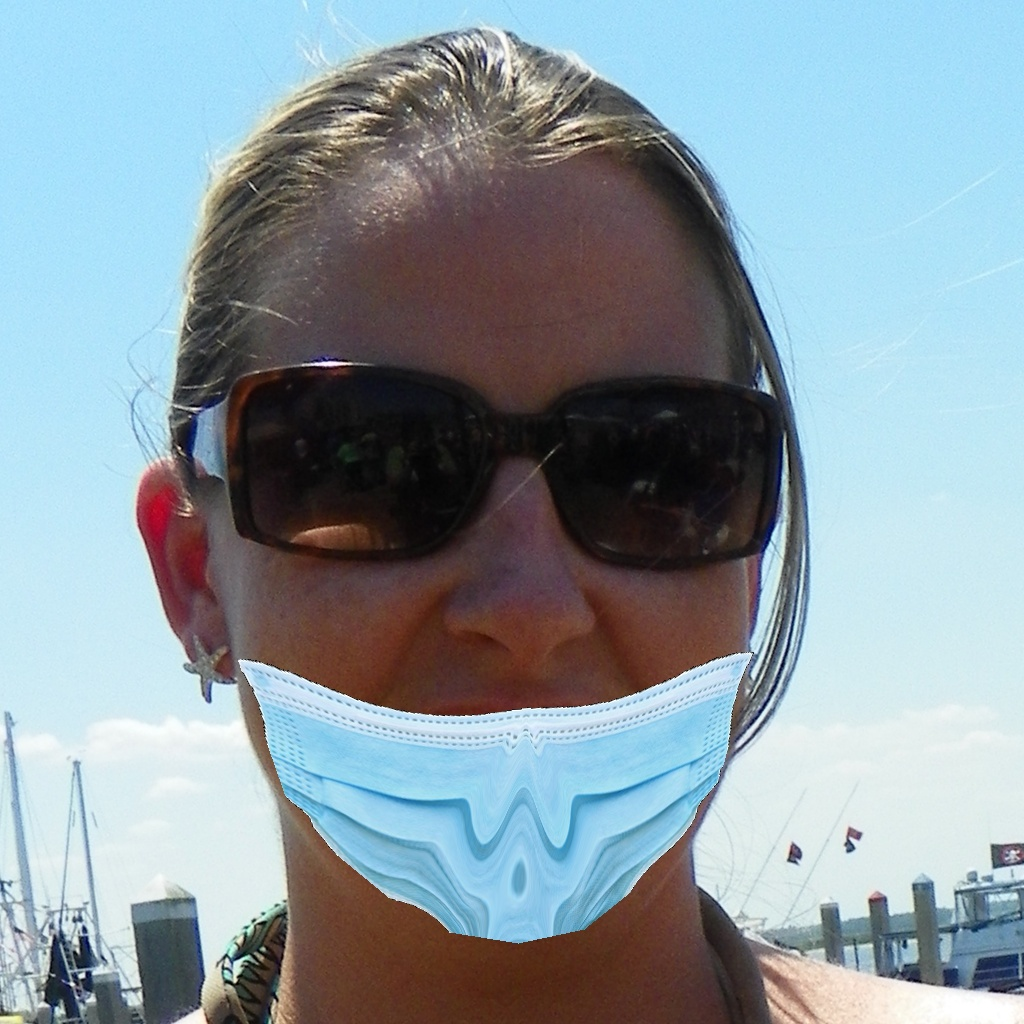Mask_Mouth_Chin: (231, 368, 759, 946)
